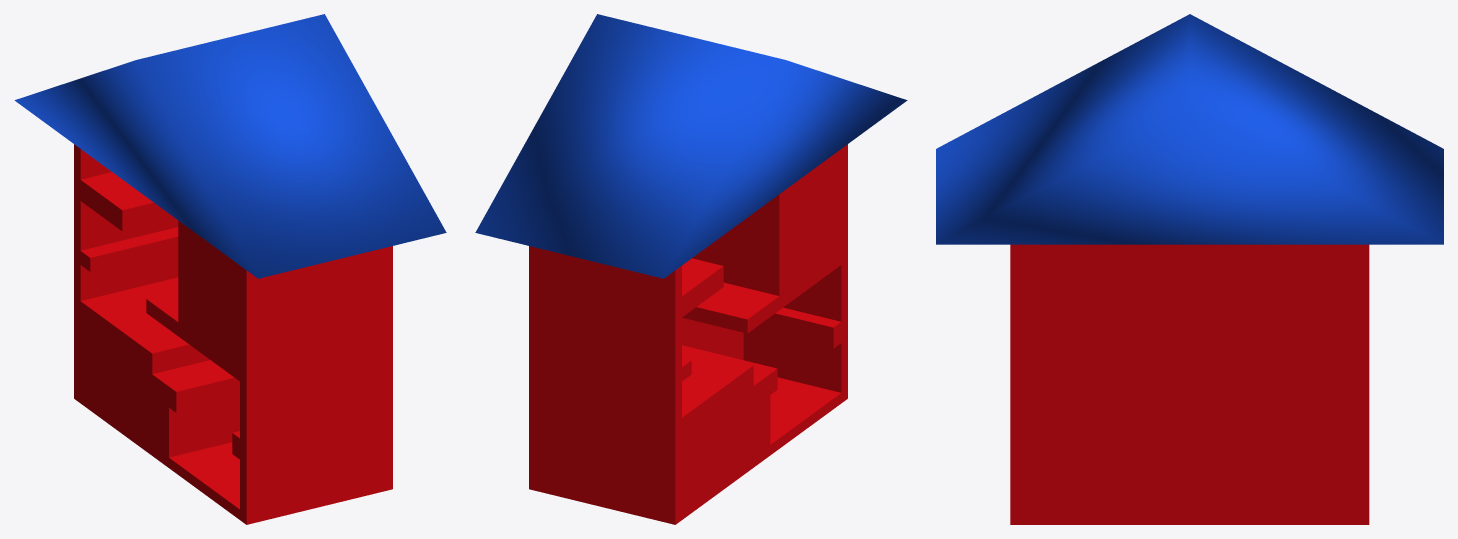
The model's file is finalHouse.fbx.
The picture shows the model from 3 angles, left to right: view 1: azimuth 30°, elevation 25°; view 2: azimuth 150°, elevation 25°; view 3: azimuth 270°, elevation 25°; orthographic projection. The views are drawn at different scales.
Parts seen in each view (by area): view 1: DollBase; view 2: DollBase; view 3: DollBase.
Part boxes in pixels (<box>): DollBase: <box>14,14,446,524</box>; DollBase: <box>475,14,907,524</box>; DollBase: <box>936,14,1443,524</box>.
Bounding box in the file's own units: 126 × 261 × 283.
